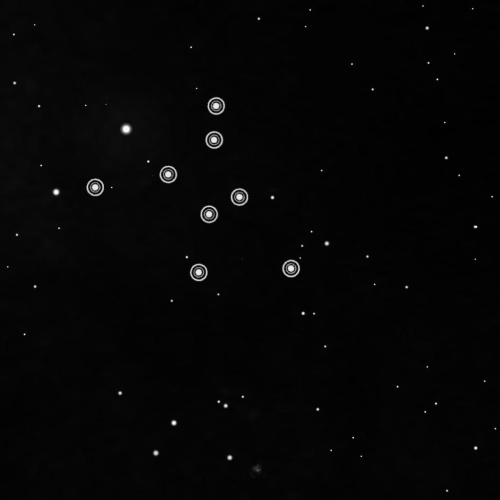hercules: (77, 91, 303, 291)
